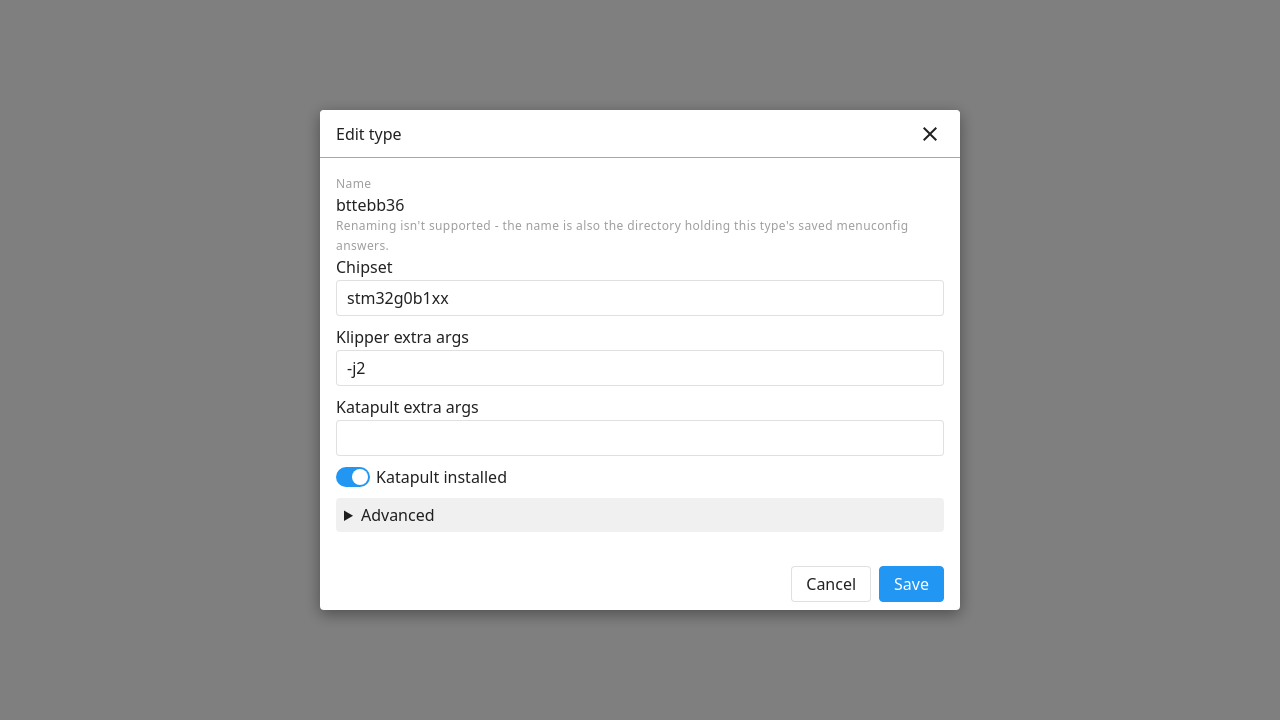
it: TypeDialog › keeps the dialog open and shows a warning the agent returned after saving
What coordinates should you click on to do the following:
click the button "Save"
I would click on:
 (912, 584)
Its box is [879,566,944,602].
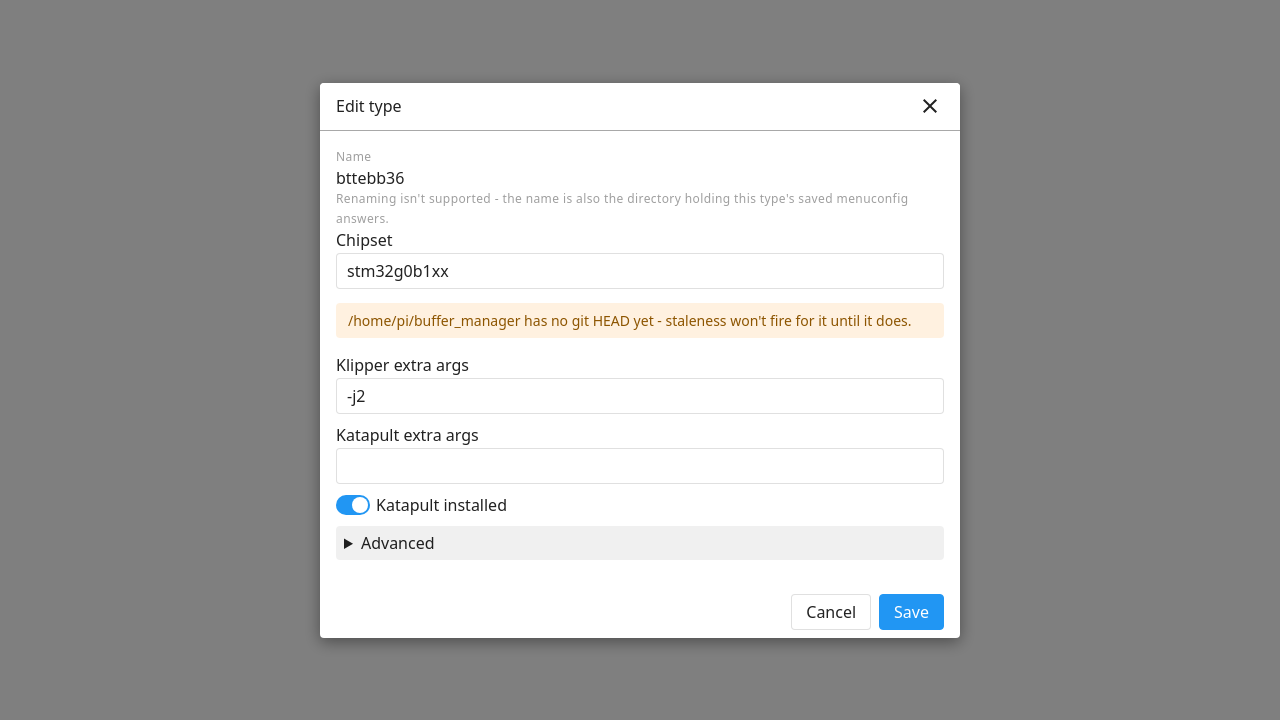
Expected: the text "has no git HEAD yet" is shown, [348,310,912,330]
